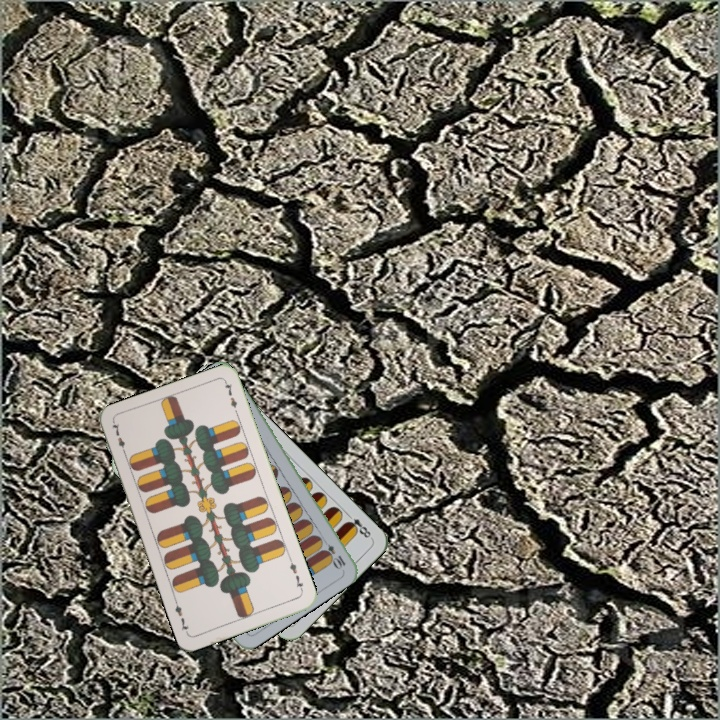E10: (317, 534, 348, 571)
E7: (285, 555, 306, 595), (108, 419, 129, 458)
E8: (342, 509, 375, 542)
